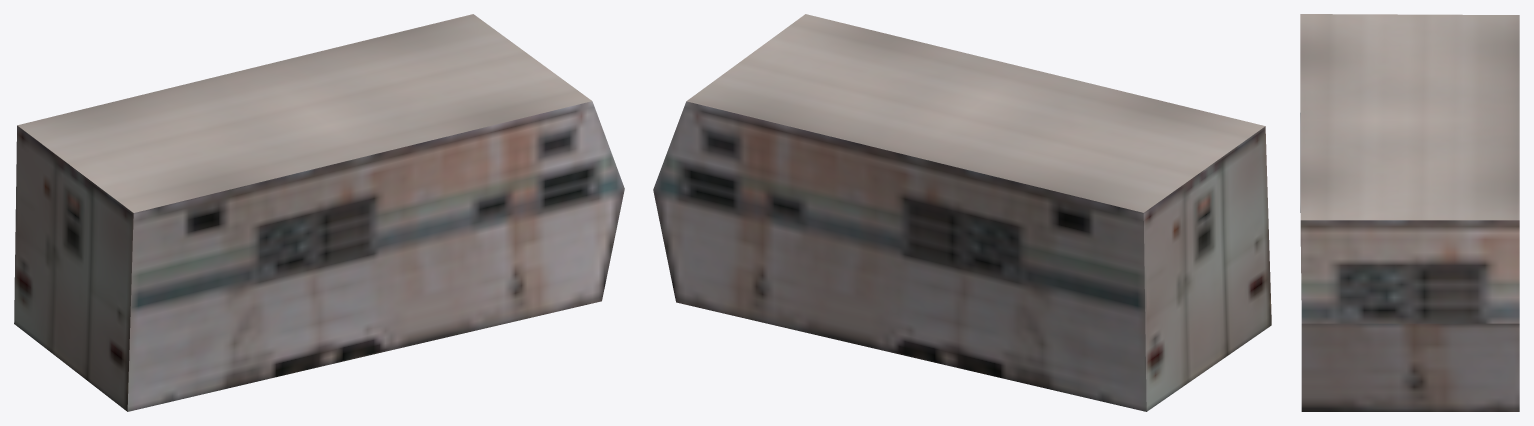
Rendered from trailer_b.glb.
3 views of the same model, side by side, from view 1: azimuth 30°, elevation 25°; view 2: azimuth 150°, elevation 25°; view 3: azimuth 270°, elevation 25° (orthographic). The views are drawn at different scales.
Visible parts, largest first — view 1: trailer02_elements_0; view 2: trailer02_elements_0; view 3: trailer02_elements_0.
Part boxes in pixels (x1=…): trailer02_elements_0: x1=14, y1=14, x2=624, y2=411; trailer02_elements_0: x1=653, y1=14, x2=1271, y2=411; trailer02_elements_0: x1=1300, y1=14, x2=1519, y2=411.
Size of the model in its own units: 1.03 by 0.4013 by 0.4267.
1 material, 1 textured.
